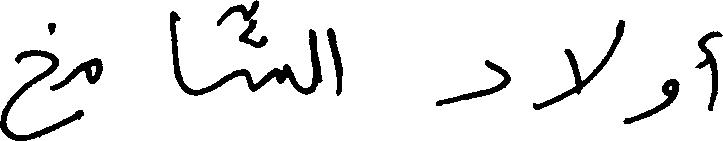X: (534, 15, 622, 114), (0, 18, 58, 140), (237, 0, 290, 96), (437, 55, 511, 110), (626, 74, 679, 128), (697, 26, 722, 115), (169, 6, 183, 95), (327, 23, 343, 100), (308, 24, 320, 98), (85, 53, 103, 88)
